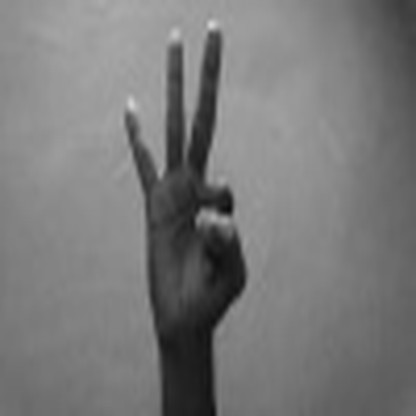f: (112, 18, 255, 329)
